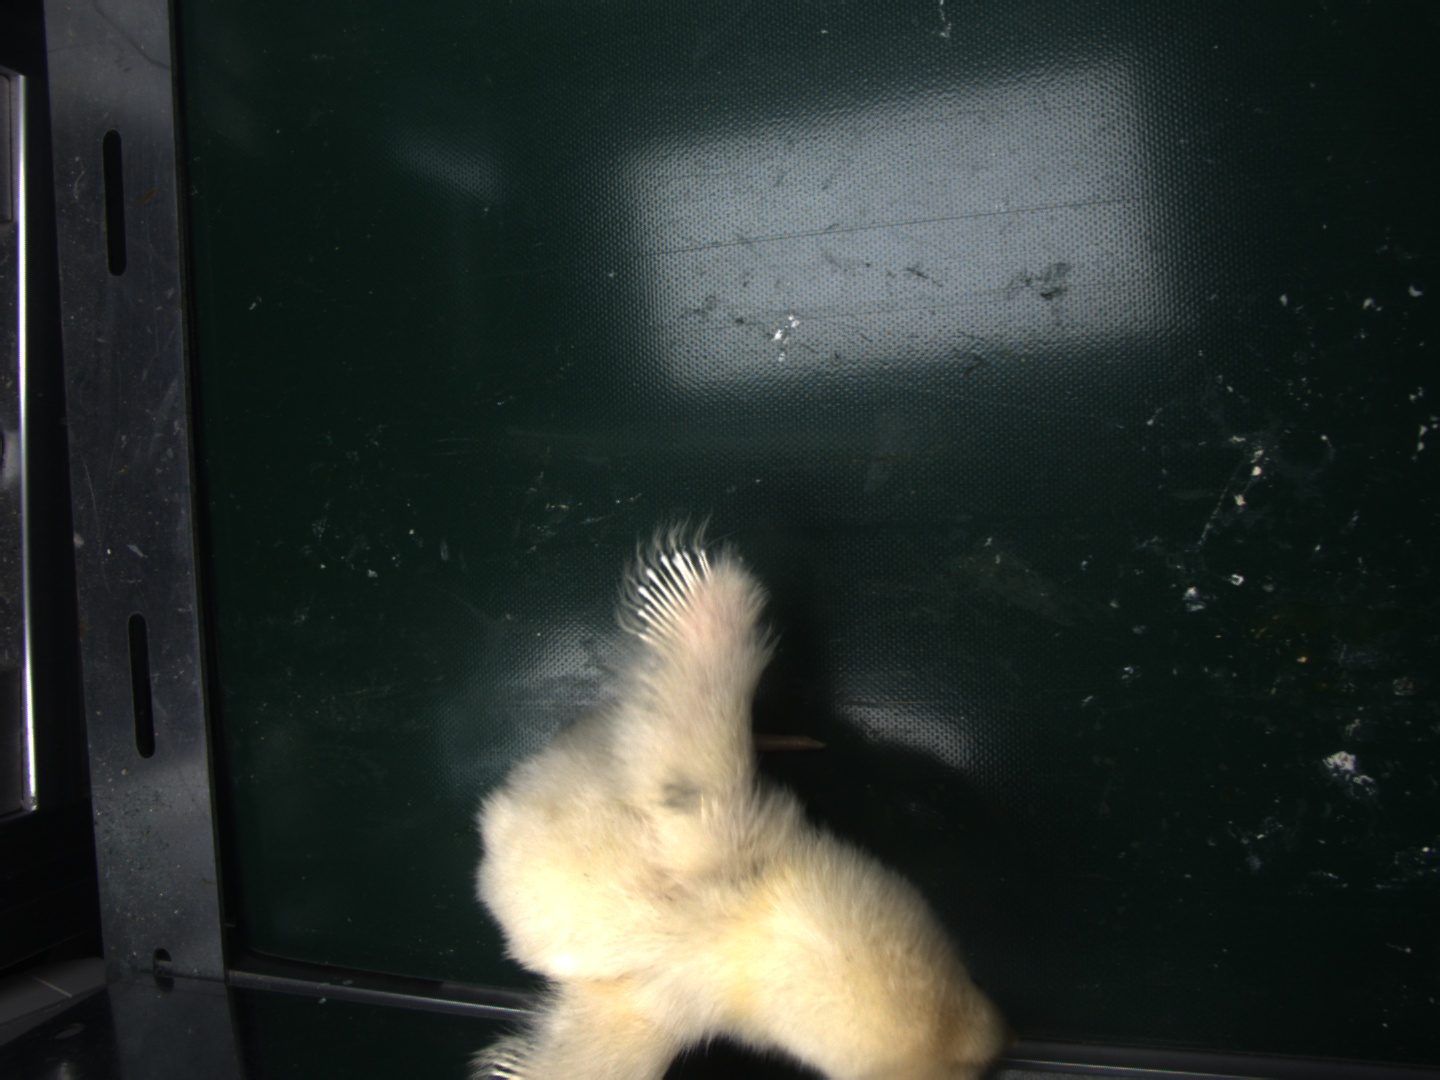male: (634, 552, 712, 644), (489, 1040, 542, 1080)
